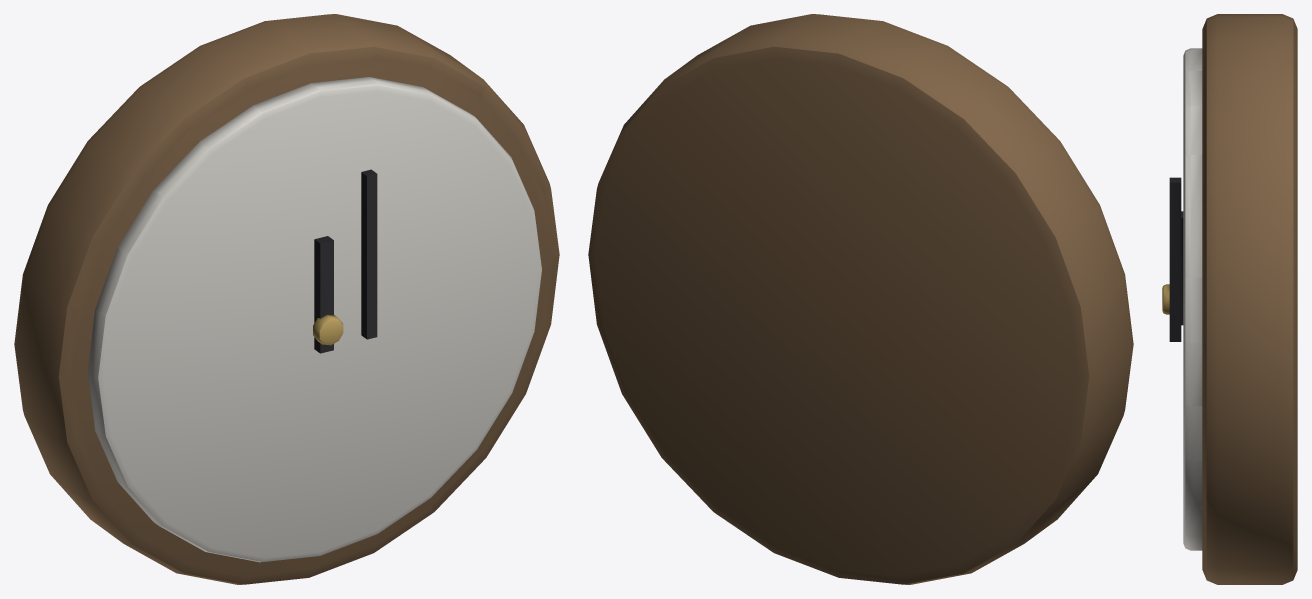
The model's file is clock_wall.glb.
The picture shows the model from 3 angles, left to right: view 1: azimuth 30°, elevation 25°; view 2: azimuth 150°, elevation 25°; view 3: azimuth 270°, elevation 25°; orthographic projection. The views are drawn at different scales.
Visible parts, largest first — view 1: clock_wall; view 2: clock_wall; view 3: clock_wall.
Part boxes in pixels (left/top/right/bottom): clock_wall: left=14, top=14, right=559, bottom=584; clock_wall: left=588, top=14, right=1133, bottom=584; clock_wall: left=1162, top=14, right=1297, bottom=584.
Size of the model in its own units: 0.3 by 0.3 by 0.071.
